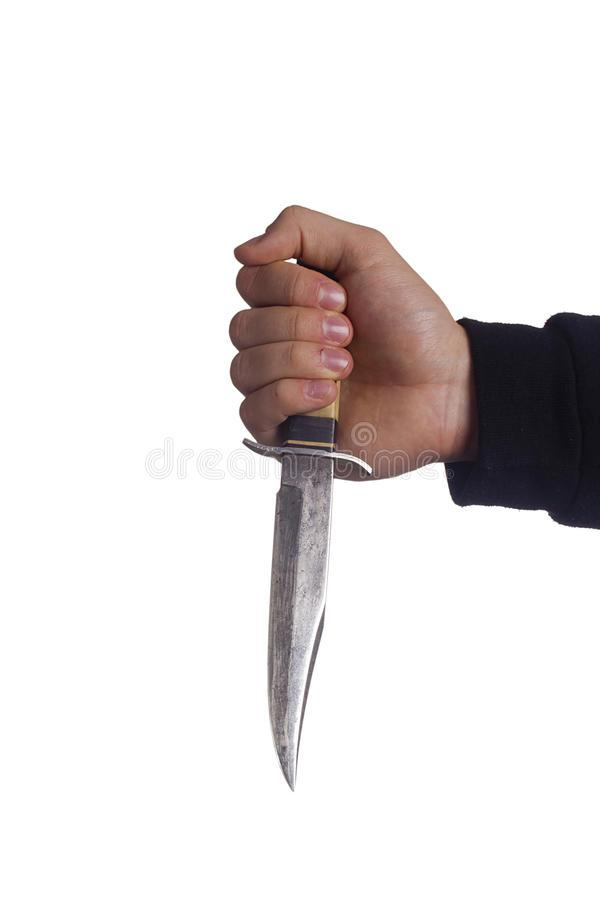weapon: (238, 252, 379, 797)
